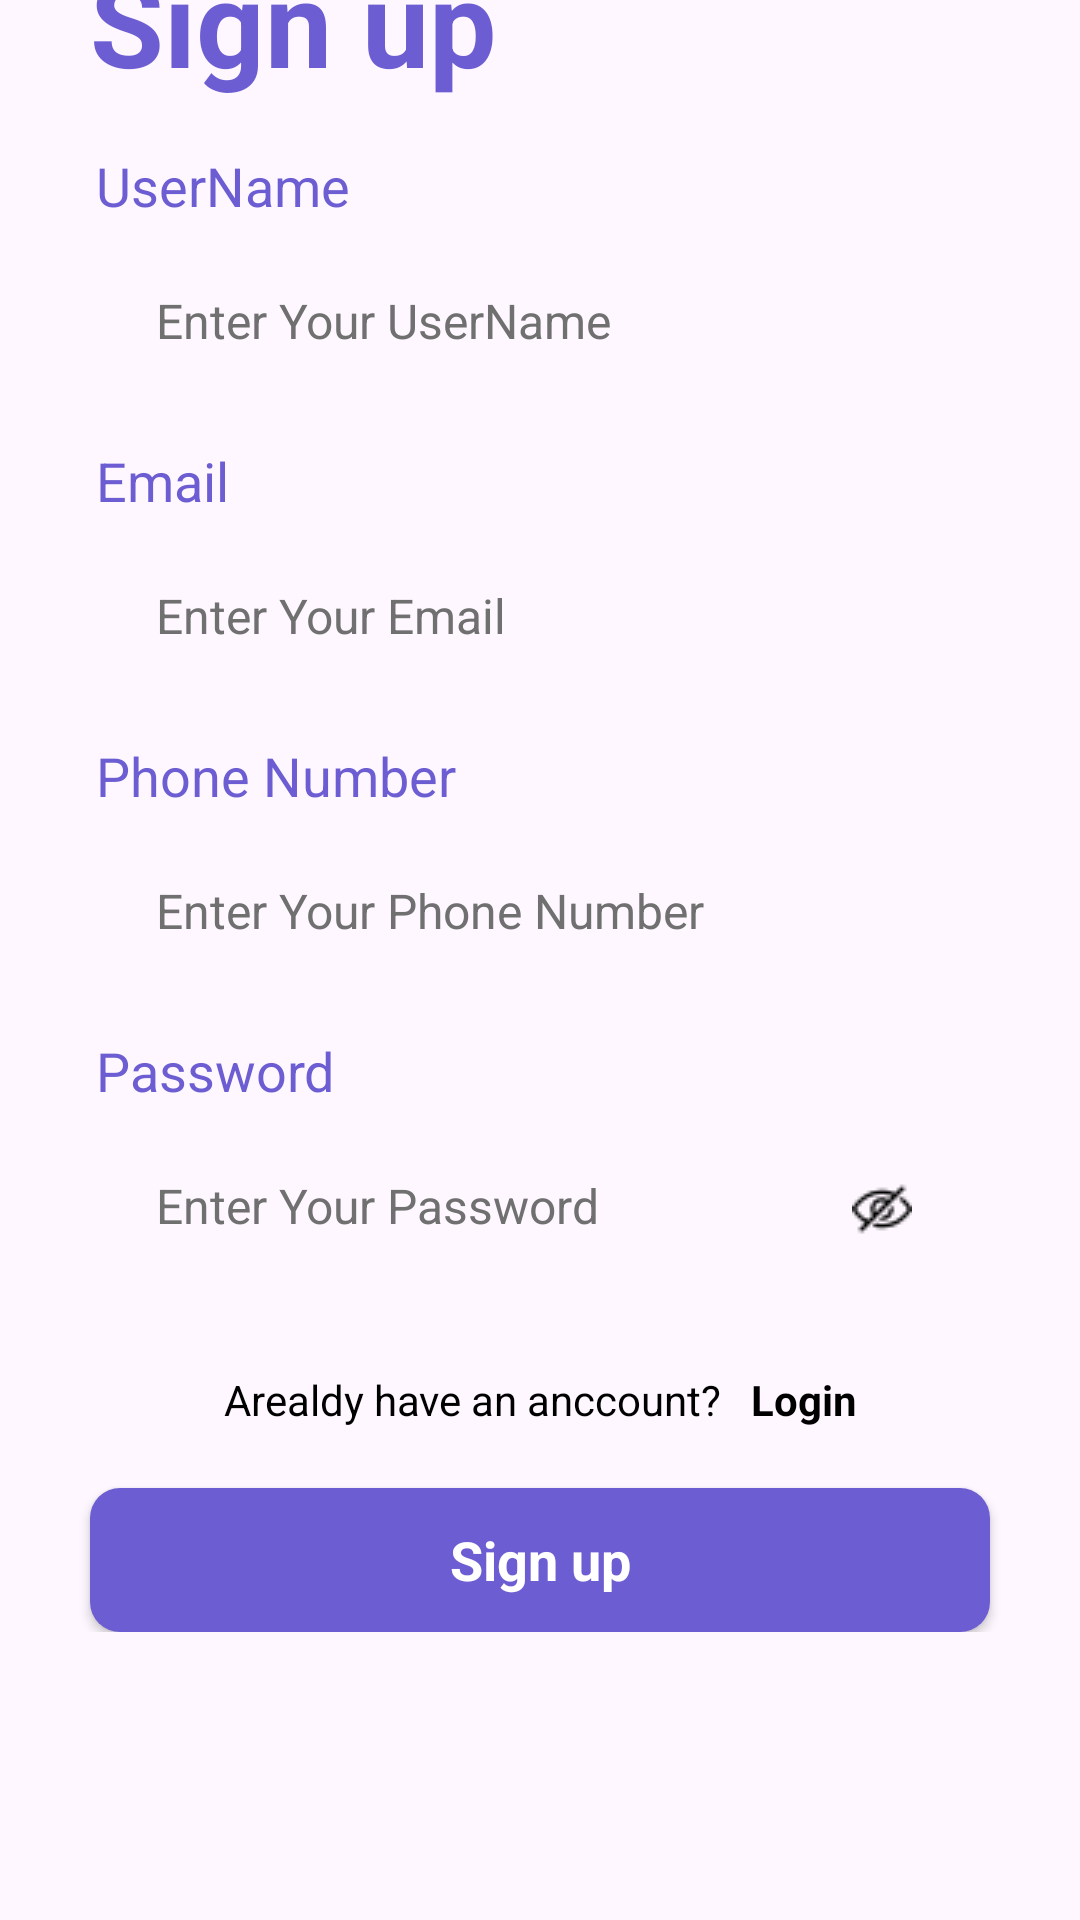

Icons on this 1080*1920 Android screen, each with the point to tap as point (x, y):
hide pass: point (882, 1209)
